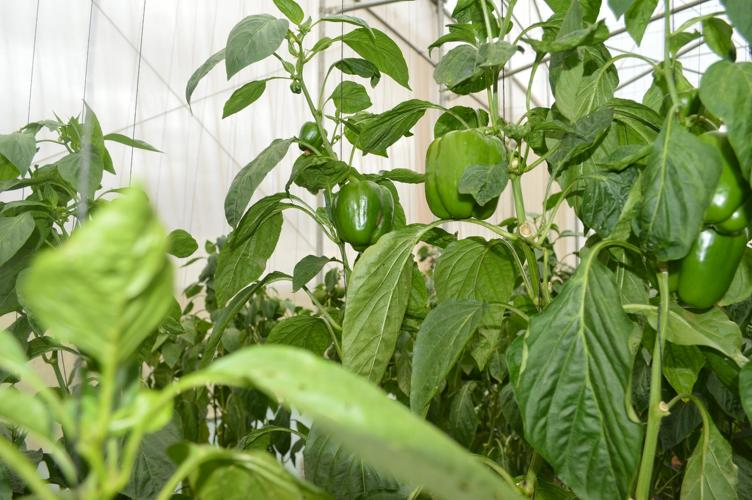BellPepper: (428, 130, 503, 222), (658, 226, 738, 311), (688, 132, 744, 232), (332, 180, 395, 247)
